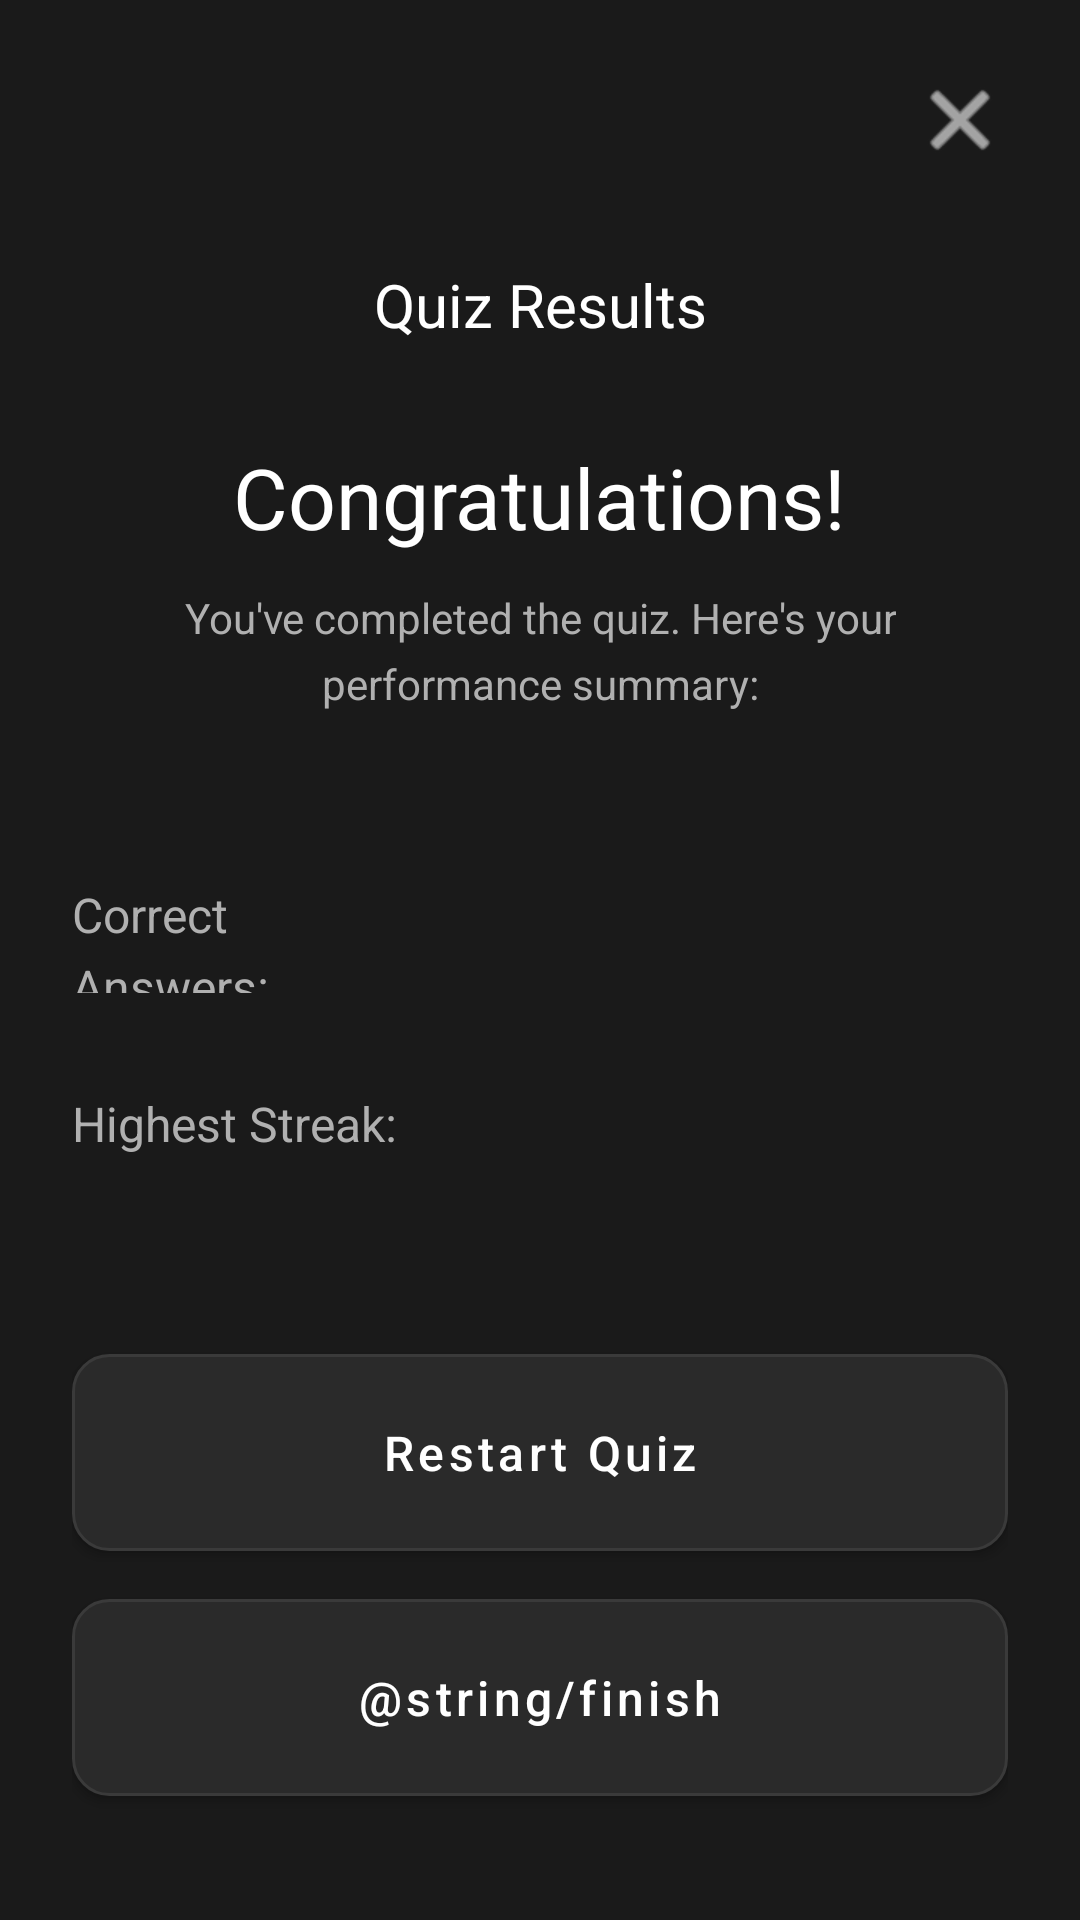

Where icons sit on this 1080px×1920px app screen, as (x1, y1, x2, y2):
Close: (930, 90, 990, 150)
